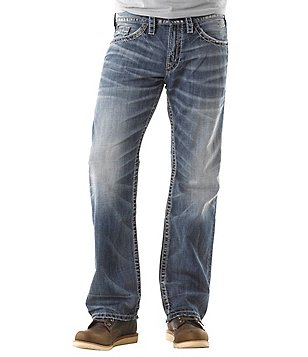Jeans: (84, 11, 232, 324)
